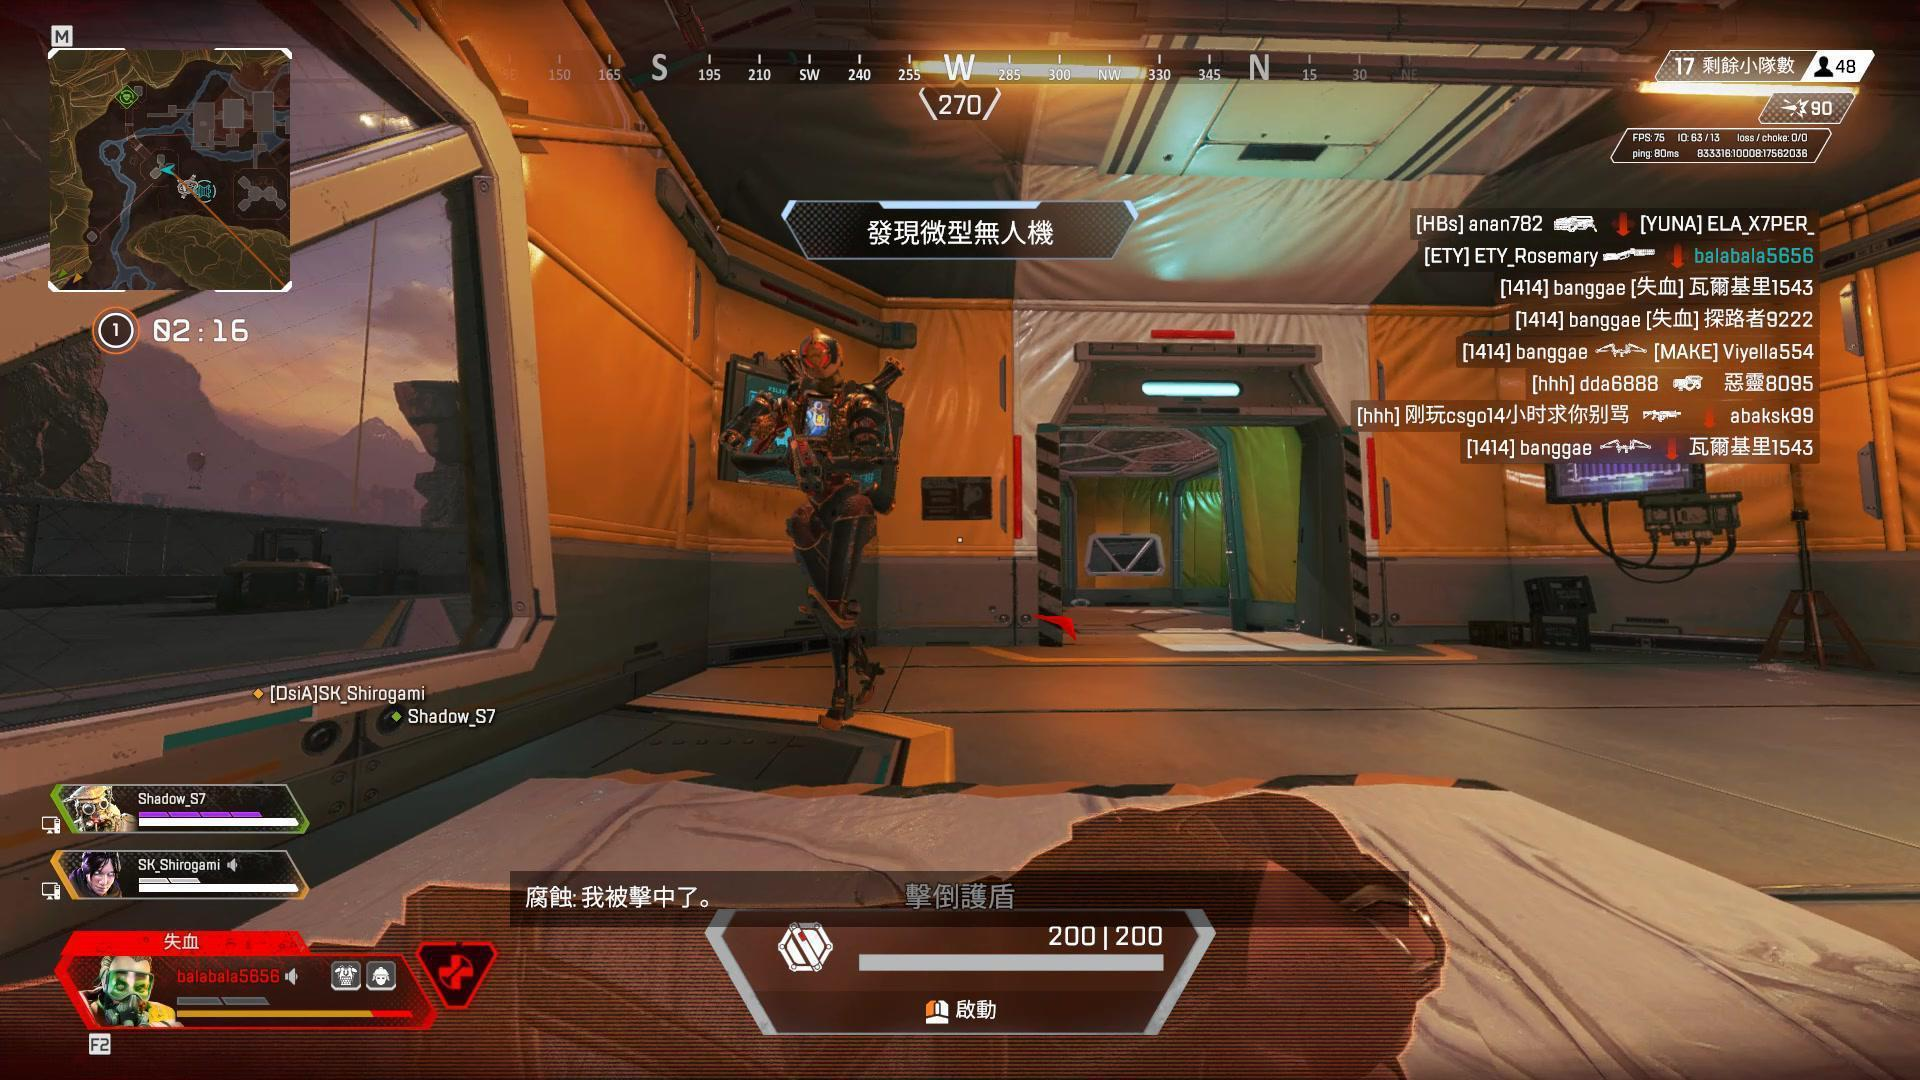avatar: (780, 329, 905, 730)
